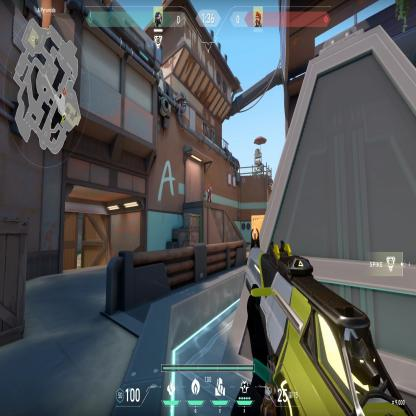enemy: (206, 183, 212, 203)
